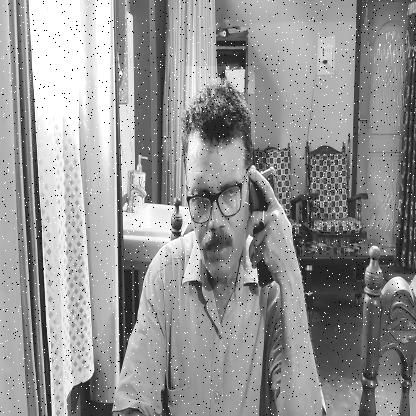Normal: (185, 66, 255, 278)
